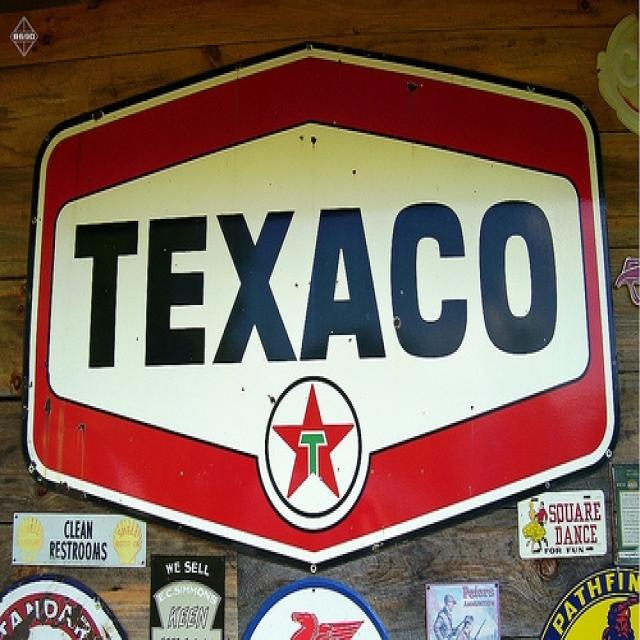texaco: (269, 381, 361, 516)
